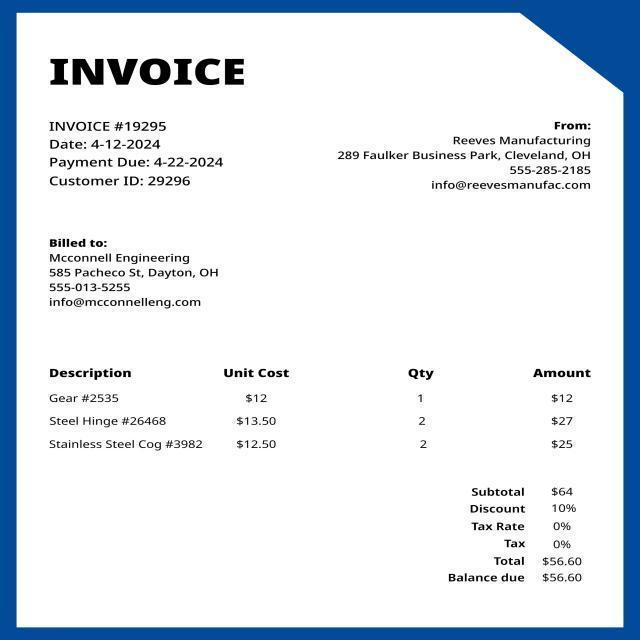ROI: (24, 344, 602, 466), (317, 91, 616, 221), (422, 479, 597, 593), (34, 224, 238, 318), (34, 116, 240, 196), (34, 42, 256, 103)
